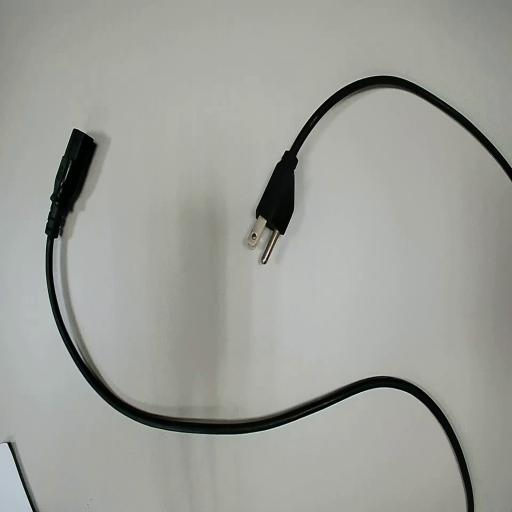wire: (46, 130, 473, 511), (256, 76, 511, 233)
